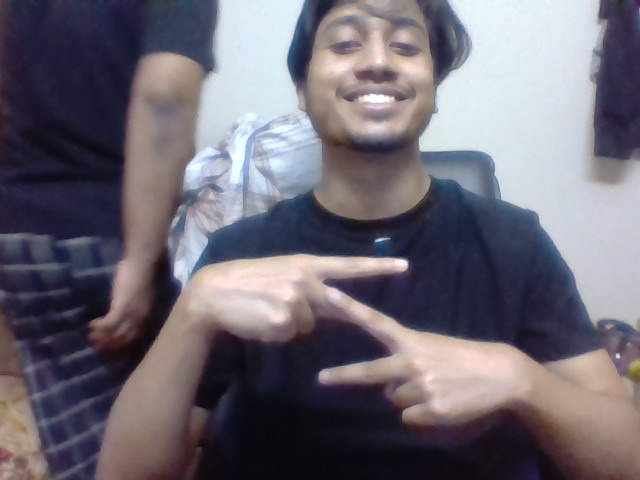Z: (309, 249, 415, 388)
